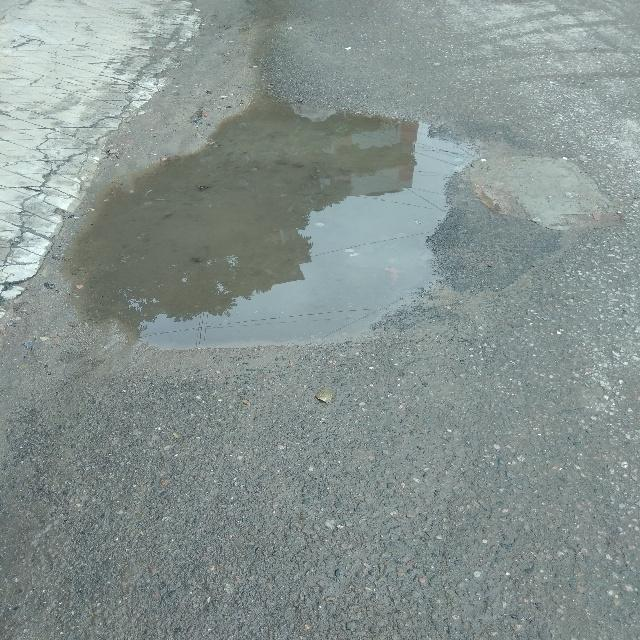Pothole: (99, 107, 420, 353)
